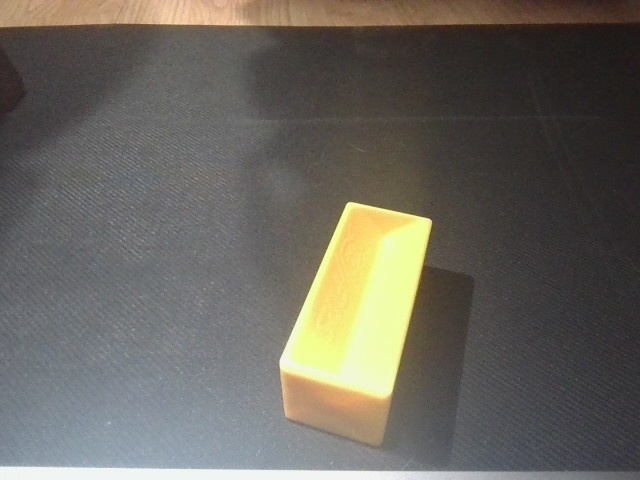YellowSample: (274, 198, 436, 451)
